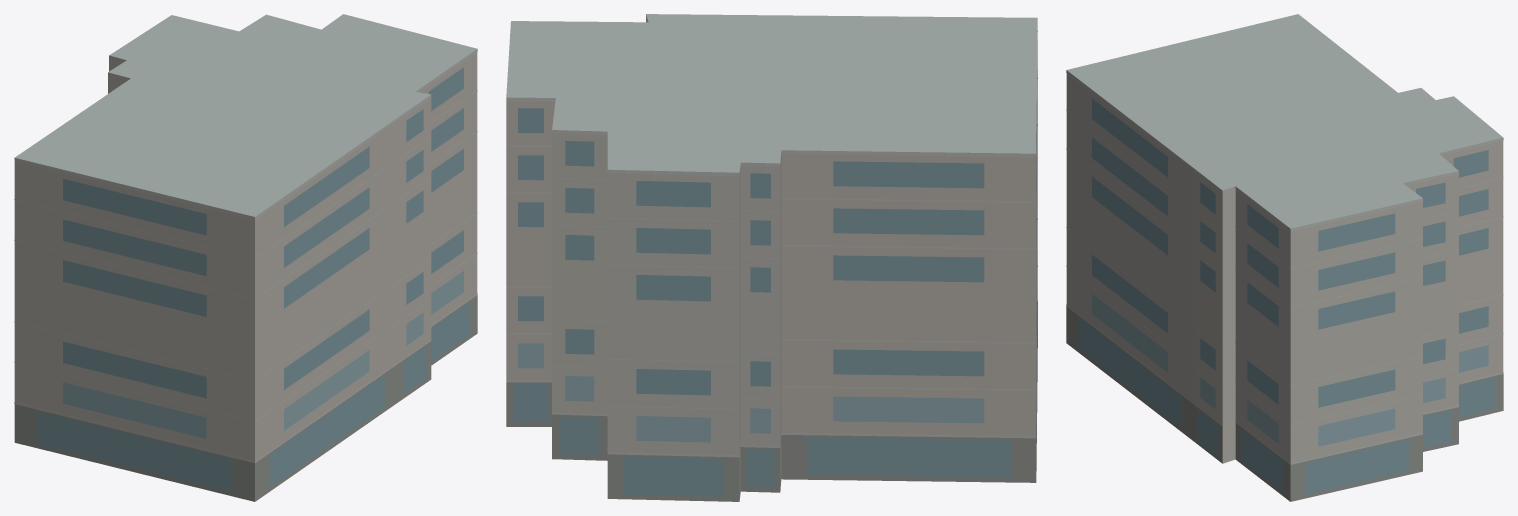
File: survey-upis-32999700.glb
3 views of the same model, side by side, from view 1: azimuth 30°, elevation 25°; view 2: azimuth 150°, elevation 25°; view 3: azimuth 270°, elevation 25° (orthographic). The views are drawn at different scales.
Visible parts, largest first — view 1: survey-upis-32999700.tmp; view 2: survey-upis-32999700.tmp; view 3: survey-upis-32999700.tmp.
Boxes of the visible parts, box(x1,y1,x2,y2) form: survey-upis-32999700.tmp: box(14, 14, 477, 501); survey-upis-32999700.tmp: box(506, 14, 1037, 501); survey-upis-32999700.tmp: box(1066, 14, 1503, 501).
Size of the model in its own units: 36.93 by 21.9 by 31.77.
